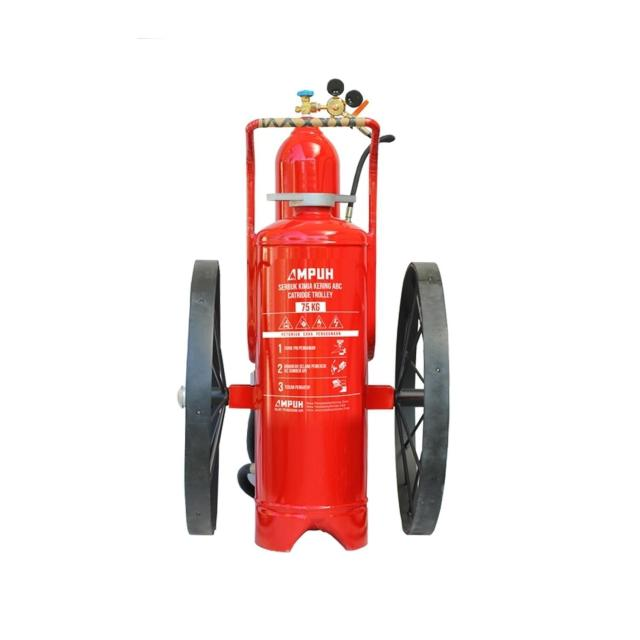fire_extinguisher: (238, 72, 393, 556)
